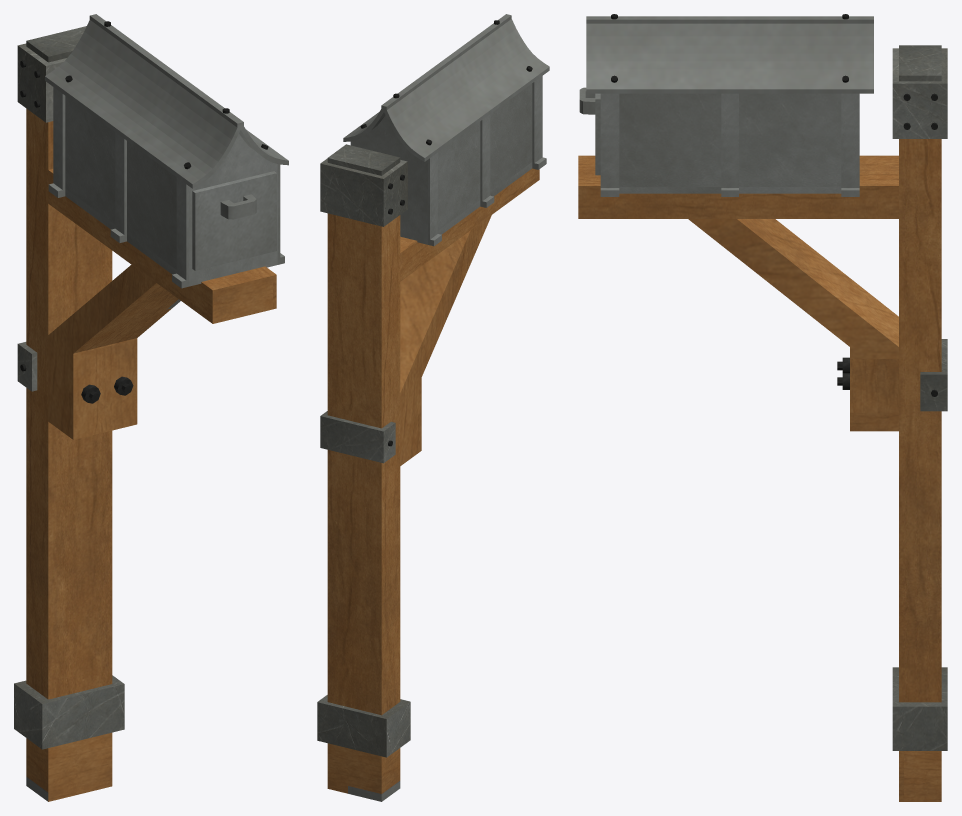
File: mailbox.fbx
The picture shows the model from 3 angles, left to right: view 1: azimuth 30°, elevation 25°; view 2: azimuth 150°, elevation 25°; view 3: azimuth 270°, elevation 25°; orthographic projection. The views are drawn at different scales.
Parts seen in each view (by area): view 1: Box001; view 2: Box001; view 3: Box001.
Part boxes in pixels (bbox=[...]): Box001: bbox=[14, 14, 288, 801]; Box001: bbox=[317, 14, 549, 801]; Box001: bbox=[578, 14, 947, 801].
Bounding box in the file's own units: 19.06 × 139 × 60.42.
